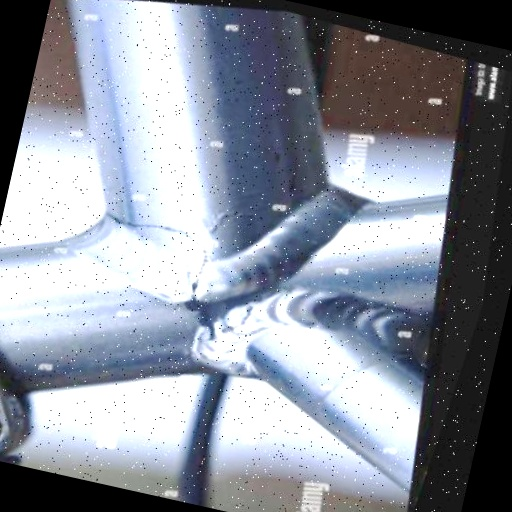crack: (76, 186, 237, 338)
